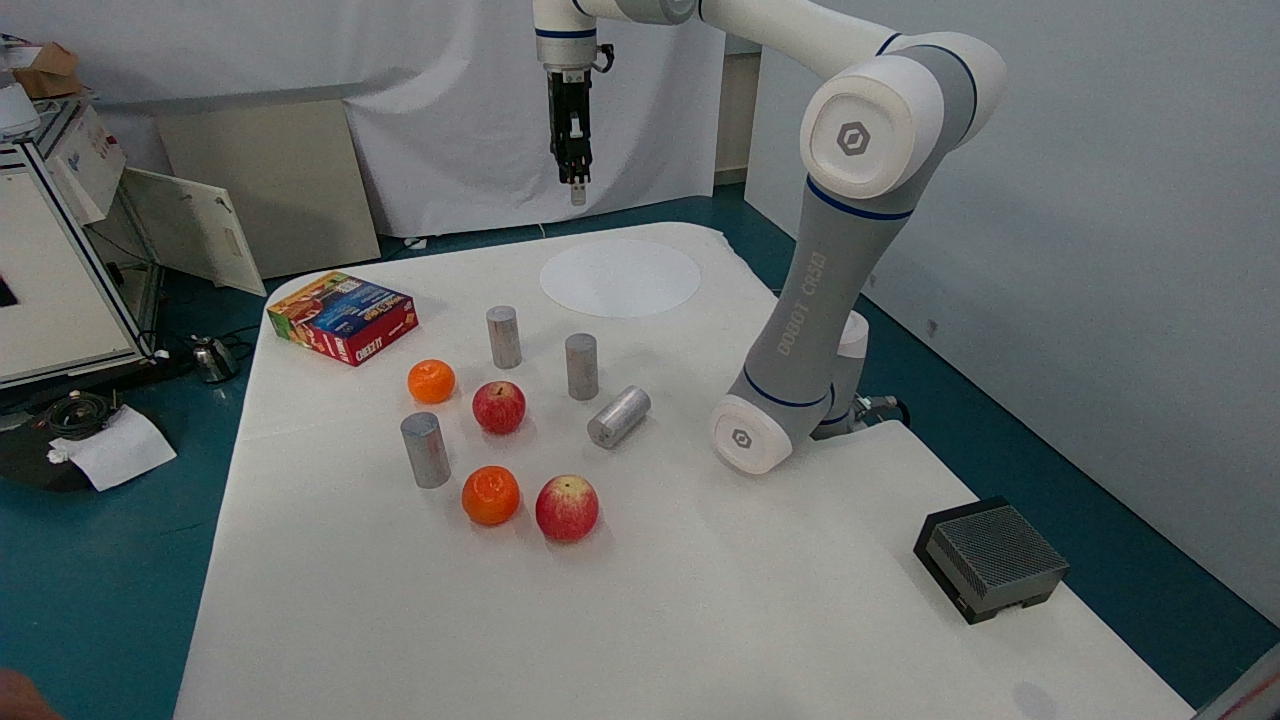apple: (442, 452, 523, 537), (404, 363, 466, 404)
metal rod: (527, 466, 619, 568), (453, 368, 539, 445)
orange: (386, 392, 458, 505), (468, 288, 535, 381), (543, 318, 606, 402), (579, 373, 655, 433)
